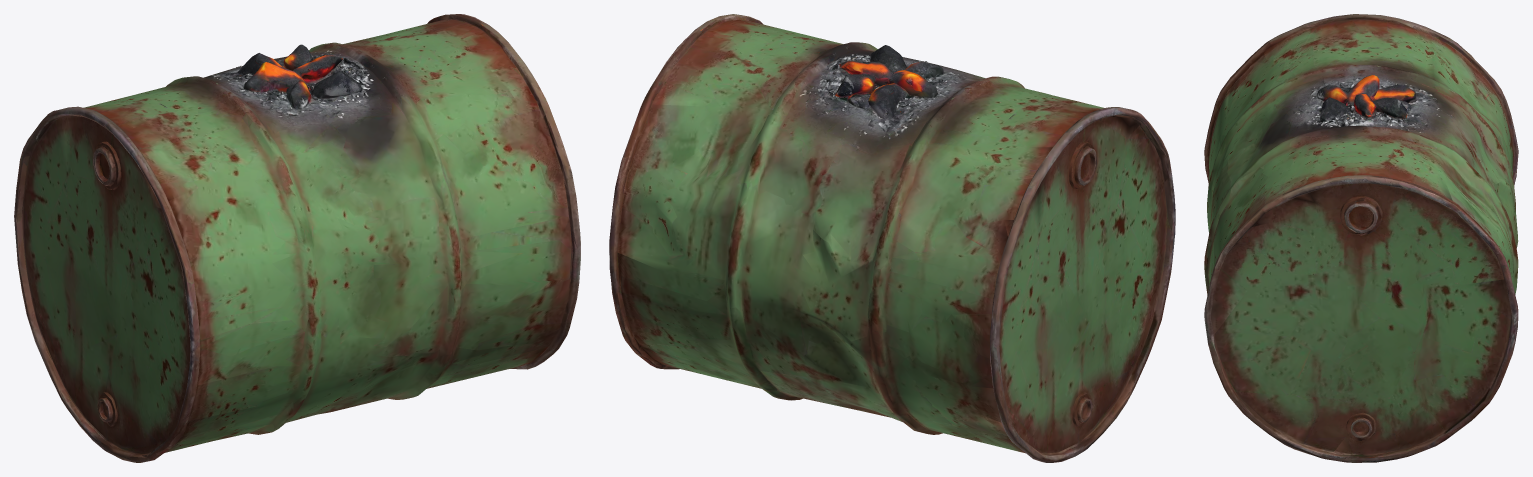
Rendered from prop-drumember.glb.
3 views of the same model, side by side, from view 1: azimuth 30°, elevation 25°; view 2: azimuth 150°, elevation 25°; view 3: azimuth 270°, elevation 25° (orthographic). The views are drawn at different scales.
Size of the model in its own units: 1.9 by 1.59 by 1.52.
Materials: 1 (1 with a texture image).
